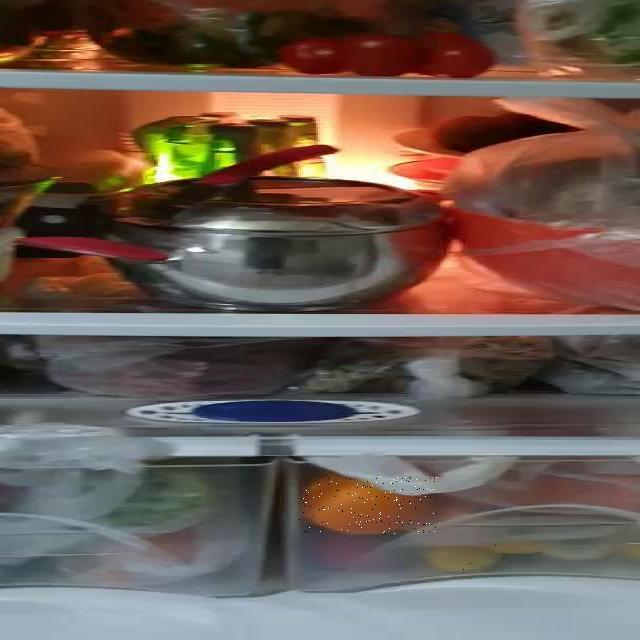lemon: (436, 543, 506, 574)
orange: (299, 476, 437, 534)
